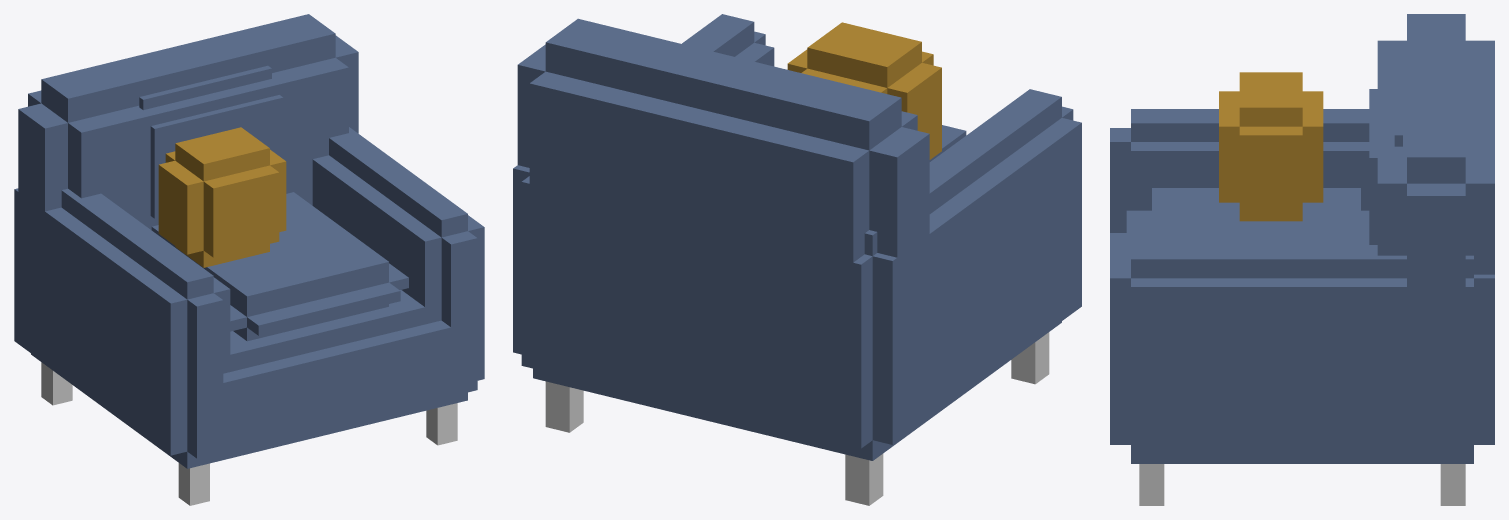
Rendered from armchair.glb.
3 renders of one model, left to right at view 1: azimuth 30°, elevation 25°; view 2: azimuth 150°, elevation 25°; view 3: azimuth 270°, elevation 25°, orthographic. The views are drawn at different scales.
Parts seen in each view (by area): view 1: armchair; view 2: armchair; view 3: armchair.
Part boxes in pixels (box(x1,y1,x2,y2)): armchair: box(14, 14, 484, 505); armchair: box(513, 14, 1081, 505); armchair: box(1110, 14, 1494, 505).
Bounding box in the file's own units: 1.09 × 1.06 × 1.06.
